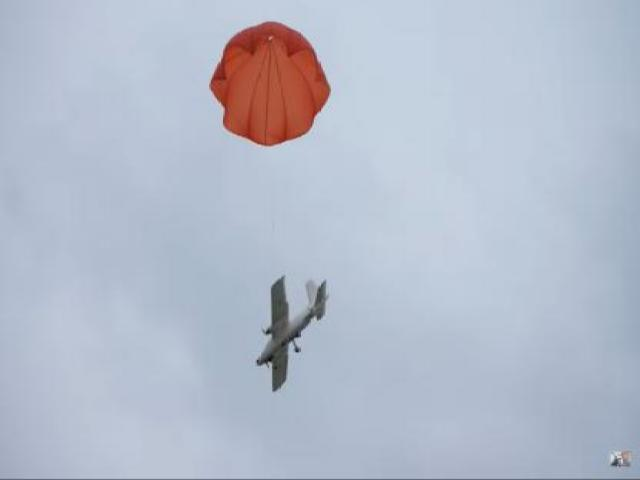uav: (258, 271, 330, 392)
